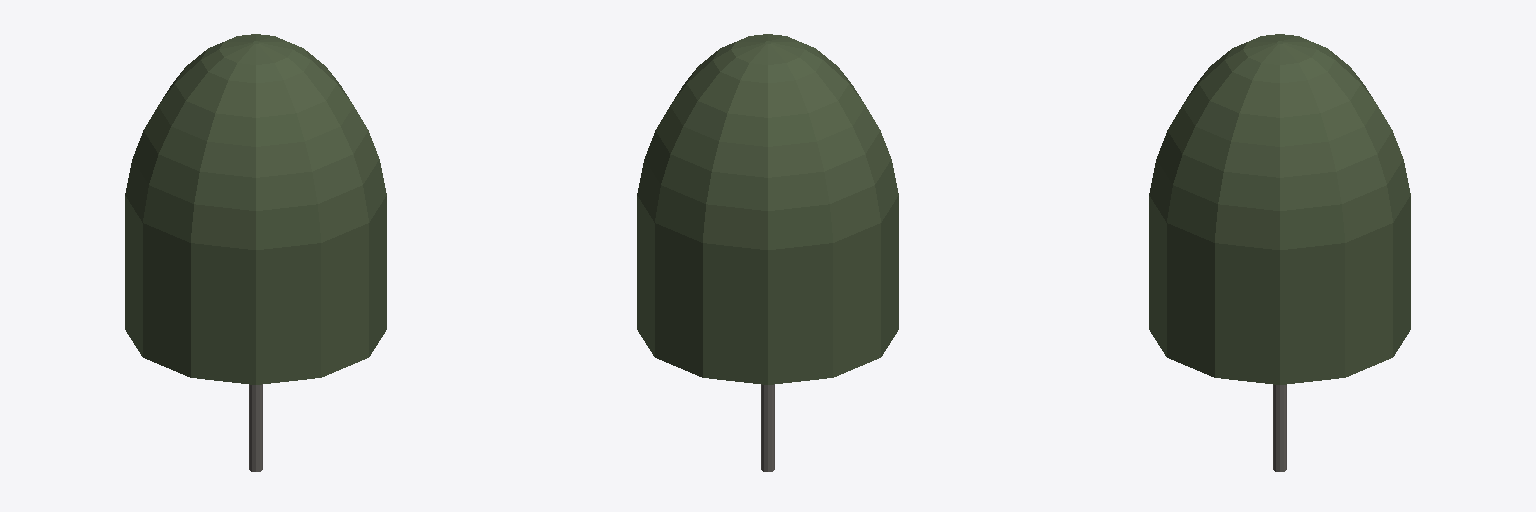
Rendered from White_Willow_Analytical_0.obj.
3 views of the same model, side by side, from view 1: azimuth 30°, elevation 25°; view 2: azimuth 150°, elevation 25°; view 3: azimuth 270°, elevation 25° (orthographic).
Parts seen in each view (by area): view 1: AnalyticalCrown, AnalyticalTrunk; view 2: AnalyticalCrown, AnalyticalTrunk; view 3: AnalyticalCrown, AnalyticalTrunk.
Boxes of the visible parts, <box> form: AnalyticalCrown: <box>125,34,386,384</box>; AnalyticalTrunk: <box>249,384,262,471</box>; AnalyticalCrown: <box>637,34,898,384</box>; AnalyticalTrunk: <box>761,384,774,471</box>; AnalyticalCrown: <box>1149,34,1410,384</box>; AnalyticalTrunk: <box>1273,385,1286,471</box>.
Size of the model in its own units: 8.34 by 15 by 8.34.